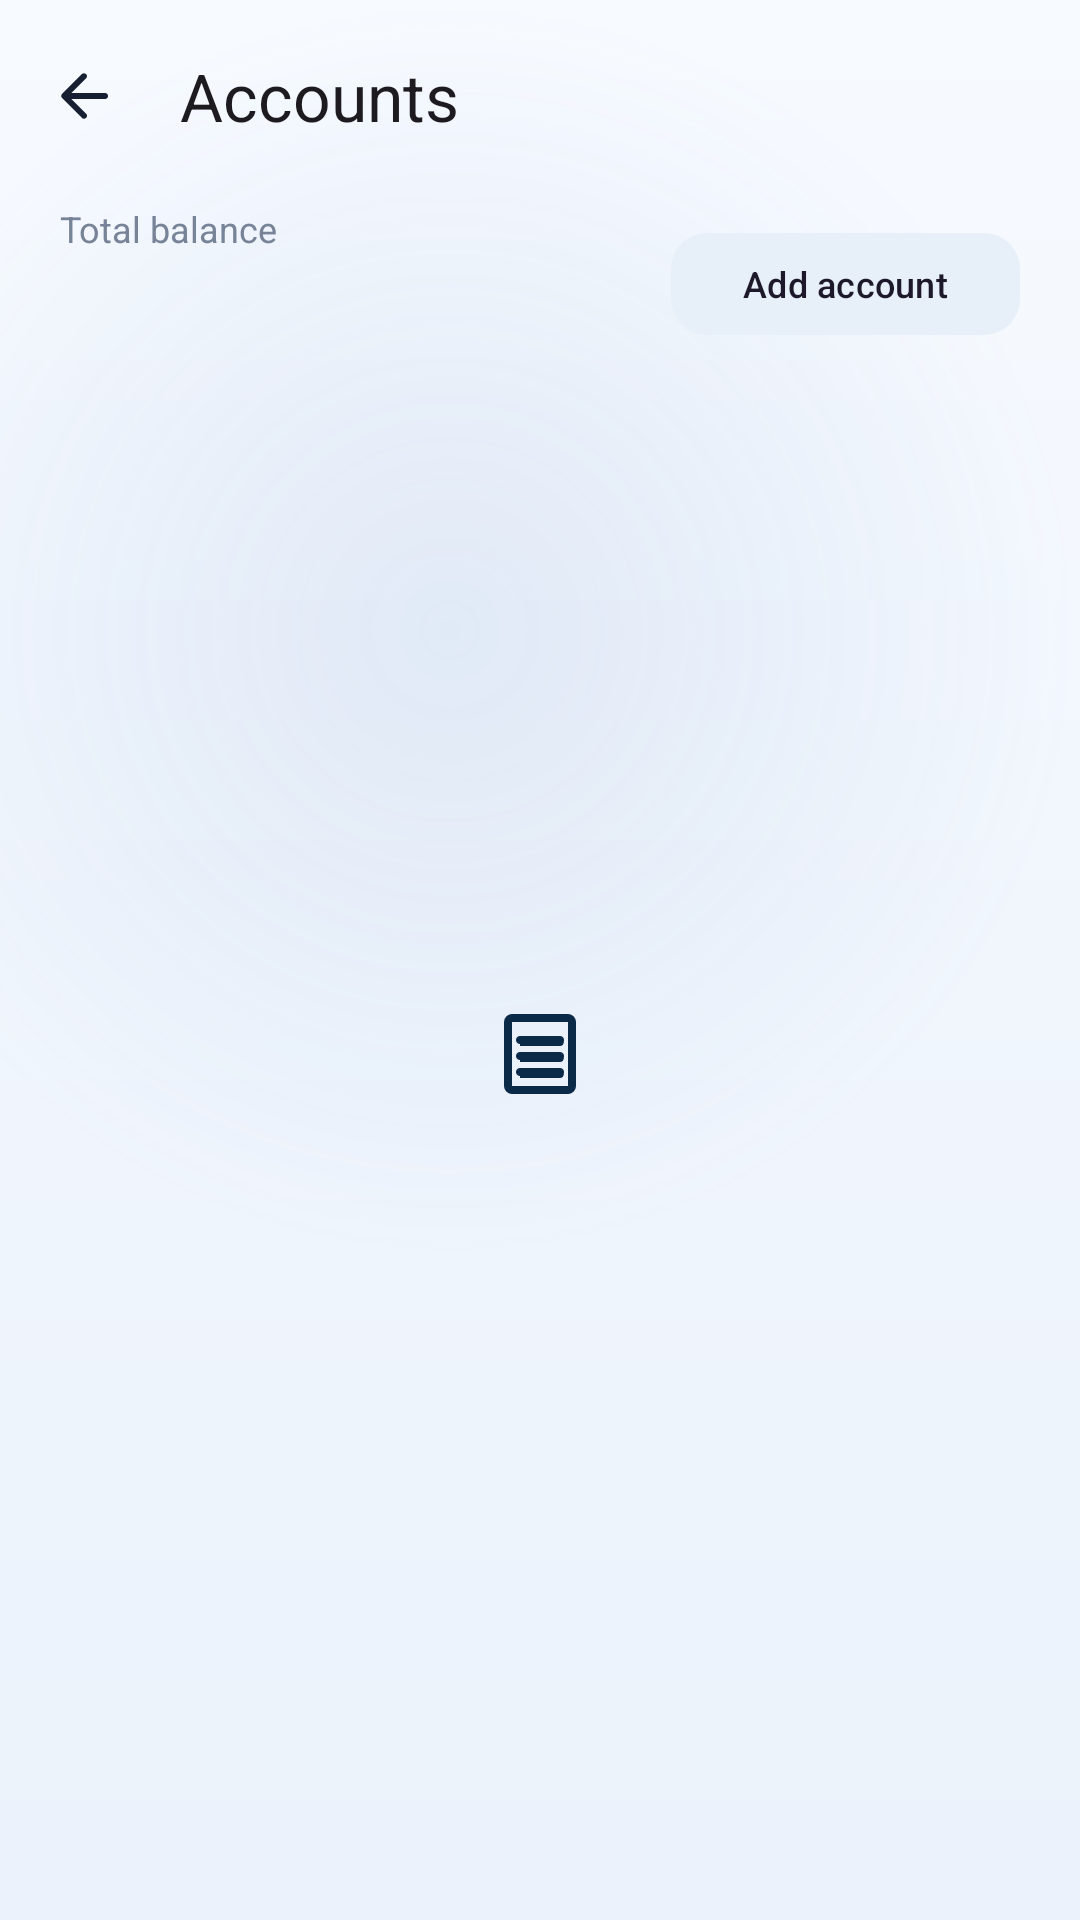

Where icons sit on this 1080px x 1920px app screen, as (x1, y1, x2, y2):
transactions: (504, 1014, 576, 1094)
